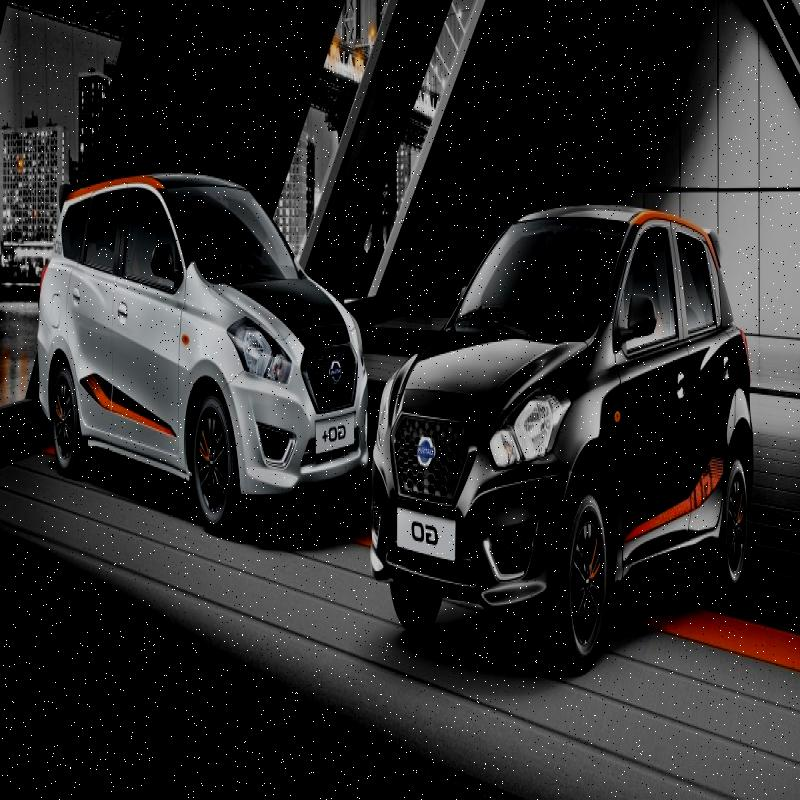car: (374, 179, 756, 643), (30, 169, 375, 496)
